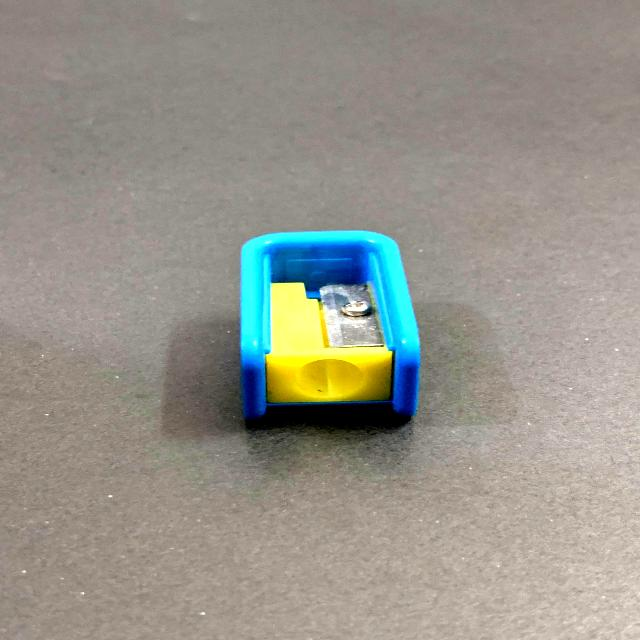Sharpner: (197, 190, 458, 448)
